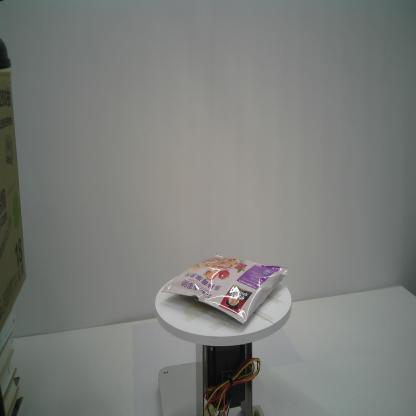Instant Drink: (160, 252, 289, 326)
